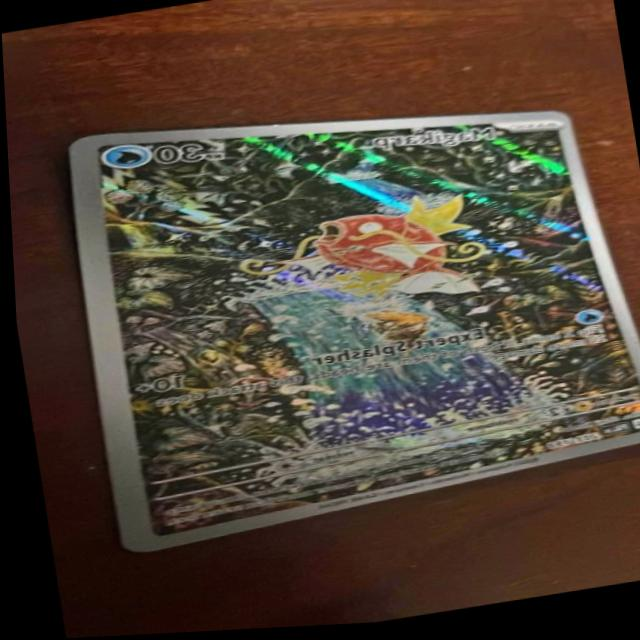card: (65, 115, 640, 554)
